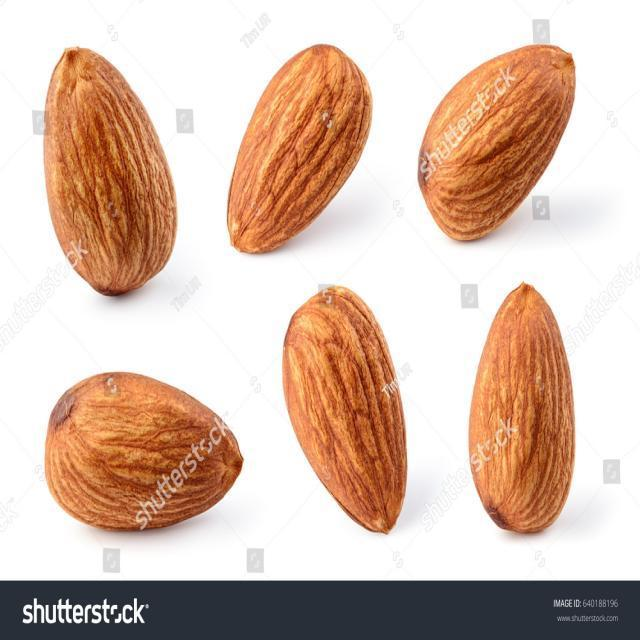almond: (42, 47, 178, 298), (45, 369, 242, 534), (223, 45, 372, 255), (285, 285, 408, 537), (418, 47, 575, 238), (467, 280, 575, 535)
